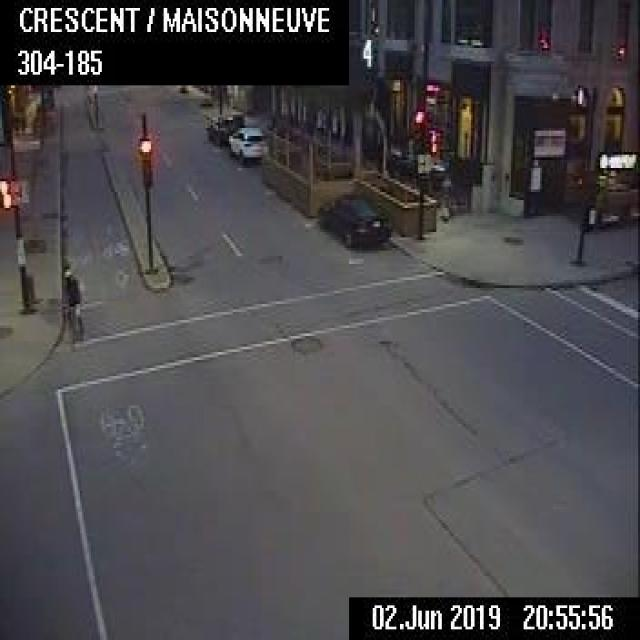pedestrian: (58, 256, 82, 341)
vehicle: (312, 187, 392, 248), (204, 108, 244, 146), (227, 124, 264, 165)
